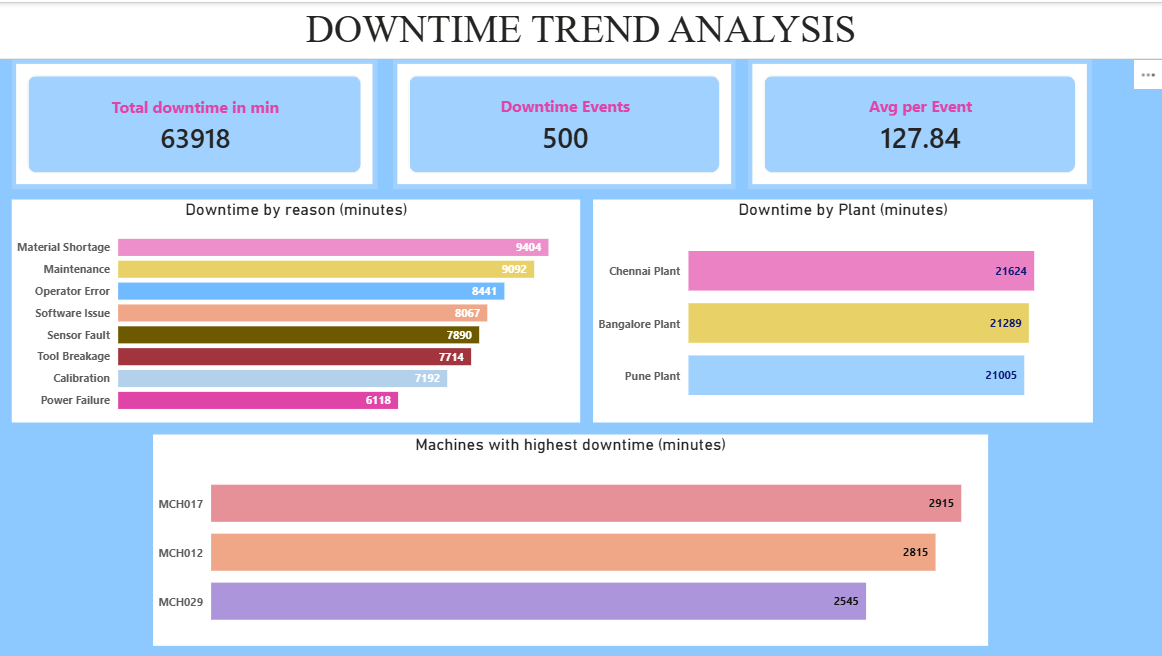

The dashboard page shown, as its layout file describes it:
{"tool":"powerbi","page":{"name":"Page 2","canvas":[1280,720],"ordinal":1},"visuals":[{"type":"textbox","box":[0,0,1280,62.7],"z":0},{"type":"cardVisual","fields":{"Data":["Sum(Downtime Log.Downtime_Minutes)"]},"box":[15.7,62.7,402,142.5],"z":1000},{"type":"cardVisual","fields":{"Data":["CountNonNull(Downtime Log.Downtime_Minutes)"]},"box":[433.3,62.7,376.3,142.5],"z":2000},{"type":"cardVisual","fields":{"Data":["Avg(Downtime Log.Downtime_Minutes)"]},"box":[823.9,62.7,377.7,142.5],"z":3000},{"type":"barChart","title":"Downtime by reason (minutes)","fields":{"Y":["Sum(Downtime Log.Downtime_Minutes)"],"Category":["Downtime Log.Downtime_Reason"]},"box":[15.7,216.7,624.3,245.2],"z":4000},{"type":"barChart","title":"Downtime by Plant (minutes)","fields":{"Y":["Sum(Downtime Log.Downtime_Minutes)"],"Category":["Downtime Log.Plant"]},"box":[652.8,216.7,548.8,245.2],"z":5000},{"type":"barChart","title":"Machines with highest downtime (minutes)","fields":{"Category":["Downtime Log.Machine_ID"],"Y":["Sum(Downtime Log.Downtime_Minutes)"]},"box":[169.6,474.7,916.5,232.3],"z":6000}]}

Visuals, with their boxes in screenshot pixels (x1, y1, x2, y2), scaled from the page's 1280x720 canvas onto the 1162x656 screenshot:
textbox: BBox(0, 0, 1161, 57)
cardVisual - Sum(Downtime Log.Downtime_Minutes): BBox(14, 57, 379, 187)
cardVisual - CountNonNull(Downtime Log.Downtime_Minutes): BBox(393, 57, 735, 187)
cardVisual - Avg(Downtime Log.Downtime_Minutes): BBox(748, 57, 1091, 187)
"Downtime by reason (minutes)" barChart: BBox(14, 197, 581, 421)
"Downtime by Plant (minutes)" barChart: BBox(593, 197, 1091, 421)
"Machines with highest downtime (minutes)" barChart: BBox(154, 433, 986, 644)
